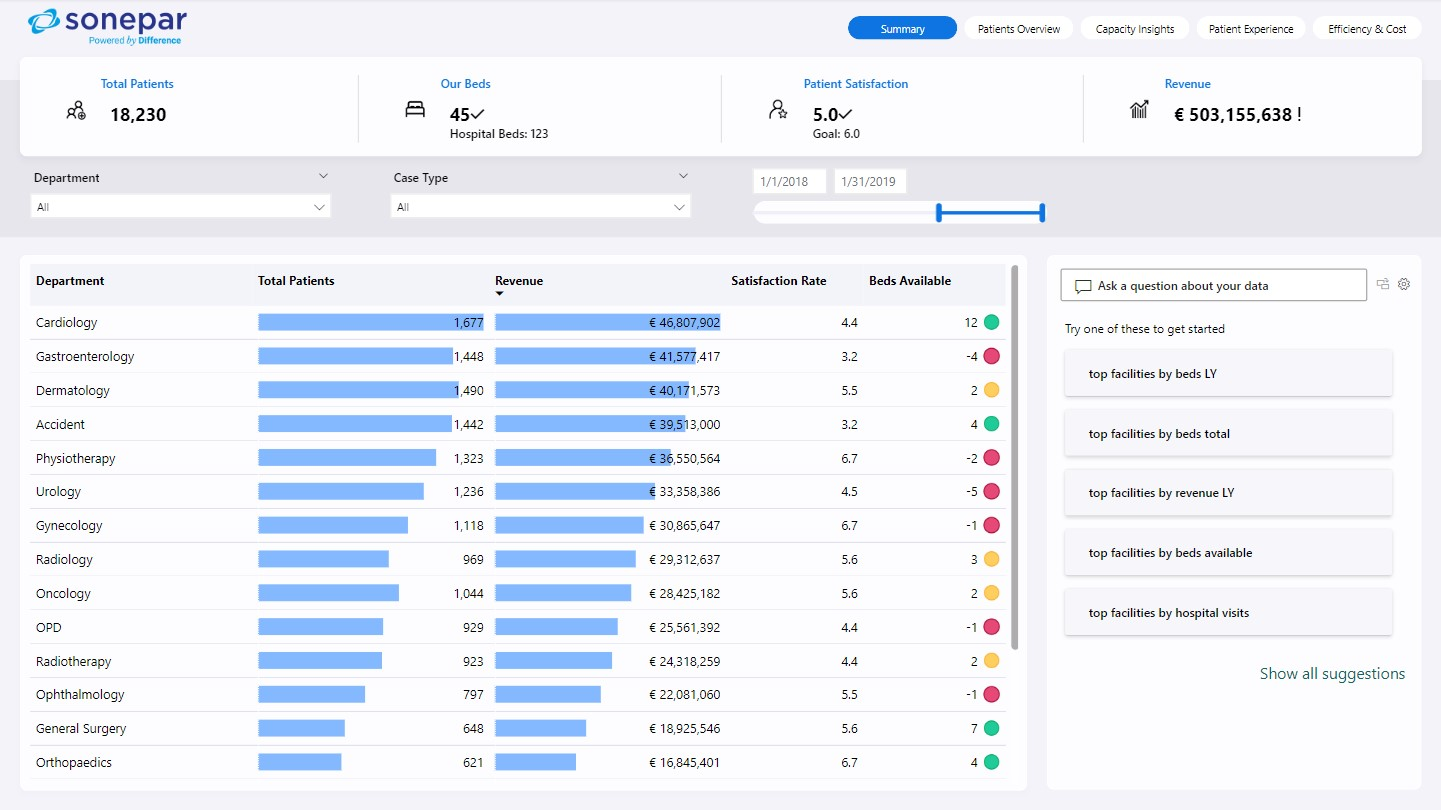

What the dashboard file says about the page in this screenshot:
{"tool":"powerbi","page":{"name":"Summary","canvas":[1280,720],"ordinal":0},"visuals":[{"type":"shape","box":[932.6,69,57.5,60.4],"z":0,"group":"g3"},{"type":"actionButton","title":"Background","box":[0,71.7,1279.7,140.8],"z":0,"group":"g2"},{"type":"actionButton","title":"Slicer background","box":[669.3,180.4,259.7,19.5],"z":0,"group":"g1"},{"type":"group","id":"g1","title":"of time","box":[655.3,141.3,286.5,65.1],"z":500,"group":"g4"},{"type":"actionButton","title":"Background KPI","box":[18.4,52.7,1243.1,88],"z":1000,"group":"g5"},{"type":"shape","box":[611.1,69,57.5,60.4],"z":1000,"group":"g3"},{"type":"group","id":"g2","title":"Elements","box":[0,71.7,1279.7,140.8],"z":1000},{"type":"slicer","title":"VRU Line: 5 Lines with longest wait times (seconds)","fields":{"Values":["★CaseType.★Case Type"]},"box":[337,146.4,287,60],"z":1000,"group":"g4"},{"type":"group","id":"g3","title":"Lines","box":[289.5,69,700.6,60.4],"z":1500,"group":"g5"},{"type":"shape","box":[289.5,69,57.5,60.4],"z":2000,"group":"g3"},{"type":"image","box":[997.4,85.8,27.1,27.1],"z":2000,"group":"g5"},{"type":"slicer","fields":{"Values":["Calendar.Date"]},"box":[655.3,141.3,286.6,64.8],"z":2000,"group":"g1"},{"type":"slicer","title":"VRU Line: 5 Lines with longest wait times (seconds)","fields":{"Values":["★Department.★Department Name"]},"box":[18,146.4,287,60],"z":2000,"group":"g4"},{"type":"qnaVisual","box":[928.9,227.6,331.7,473.6],"z":2000},{"type":"image","box":[677.2,85.8,27,27],"z":3000,"group":"g5"},{"type":"tableEx","fields":{"Values":["Department.Department Name","KPI.Hospital_Visits","KPI.Revenue","KPI.Satisfaction_Rate","KPI.Beds_Available"]},"box":[18.4,227.6,893.1,474.6],"z":3000},{"type":"image","box":[355,85.7,27,27],"z":4000,"group":"g5"},{"type":"group","id":"g4","title":"Slicers","box":[18,141.3,923.8,65.1],"z":4000},{"type":"group","id":"g5","title":"KPI","box":[18.4,52.7,1243.1,88],"z":5000},{"type":"image","box":[54.4,86,27,27],"z":5000,"group":"g5"},{"type":"pageNavigator","box":[753,16.2,509.8,21.3],"z":6000},{"type":"kpi","title":"Revenue","fields":{"Goal":["KPI.Revenue LY"],"Indicator":["KPI.Revenue"],"TrendLine":["Data.Hospital Id"]},"box":[1028.4,68,232.9,59.6],"z":6000,"group":"g5"},{"type":"image","box":[17.7,4.4,156.9,43.4],"z":6001},{"type":"kpi","title":"Patient Satisfaction","fields":{"Goal":["KPI.Satisfaction_Goal"],"TrendLine":["Data.Hospital Id"],"Indicator":["KPI.Satisfaction_Rate"]},"box":[708,68,245,60.4],"z":7000,"group":"g5"},{"type":"kpi","title":"Our Beds","fields":{"Goal":["KPI.Beds_Total"],"TrendLine":["Data.Hospital Id"],"Indicator":["KPI.Beds_Available_Dep"]},"box":[386,68,245,59.8],"z":8000,"group":"g5"},{"type":"kpi","title":"Total Patients","fields":{"Goal":["KPI.Hospital_Visits LY"],"TrendLine":["Data.Hospital Id"],"Indicator":["KPI.Hospital_Visits"]},"box":[85.1,67.9,230.1,59.8],"z":9000,"group":"g5"}]}

Visuals, with their boxes on the page's 1280x720 design canvas (x1, y1, x2, y2). These are canvas units, not pixel positions in the 1441x810 screenshot, which may show the page scaled, cropped or inside an application window:
shape: l=933, t=69, r=990, b=129
"Background" actionButton: l=0, t=72, r=1280, b=212
"Slicer background" actionButton: l=669, t=180, r=929, b=200
"of time" group: l=655, t=141, r=942, b=206
"Background KPI" actionButton: l=18, t=53, r=1262, b=141
shape: l=611, t=69, r=669, b=129
"Elements" group: l=0, t=72, r=1280, b=212
"VRU Line: 5 Lines with longest wait times (seconds)" slicer: l=337, t=146, r=624, b=206
"Lines" group: l=290, t=69, r=990, b=129
shape: l=290, t=69, r=347, b=129
image: l=997, t=86, r=1024, b=113
slicer - Calendar.Date: l=655, t=141, r=942, b=206
"VRU Line: 5 Lines with longest wait times (seconds)" slicer: l=18, t=146, r=305, b=206
qnaVisual: l=929, t=228, r=1261, b=701
image: l=677, t=86, r=704, b=113
tableEx - Department.Department Name x KPI.Hospital_Visits: l=18, t=228, r=912, b=702
image: l=355, t=86, r=382, b=113
"Slicers" group: l=18, t=141, r=942, b=206
"KPI" group: l=18, t=53, r=1262, b=141
image: l=54, t=86, r=81, b=113
pageNavigator: l=753, t=16, r=1263, b=38
"Revenue" kpi: l=1028, t=68, r=1261, b=128
image: l=18, t=4, r=175, b=48
"Patient Satisfaction" kpi: l=708, t=68, r=953, b=128
"Our Beds" kpi: l=386, t=68, r=631, b=128
"Total Patients" kpi: l=85, t=68, r=315, b=128
